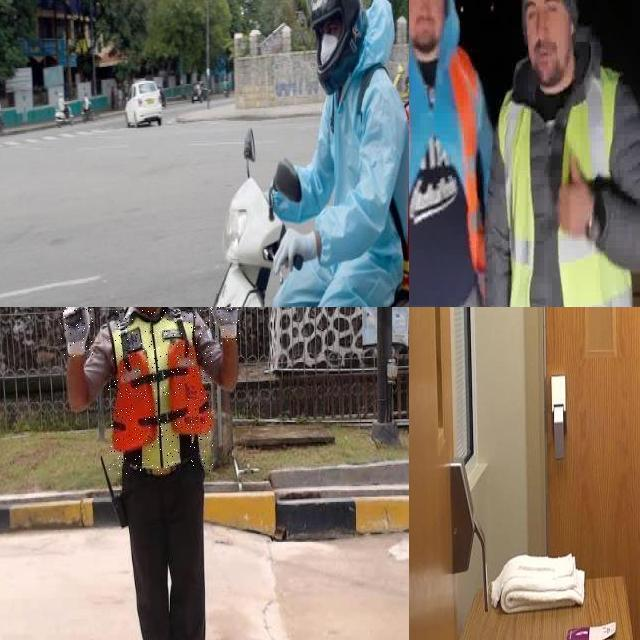GLOVE: (64, 307, 92, 356), (211, 307, 240, 343)
Glove: (270, 224, 320, 279)
MASK: (320, 33, 340, 66)
VEST: (497, 66, 637, 307), (409, 46, 479, 301), (108, 310, 213, 474)
